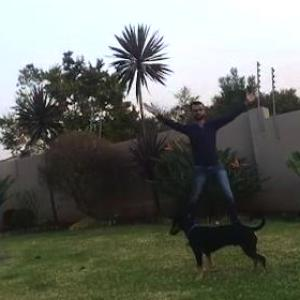takeoff: (127, 91, 242, 224)
